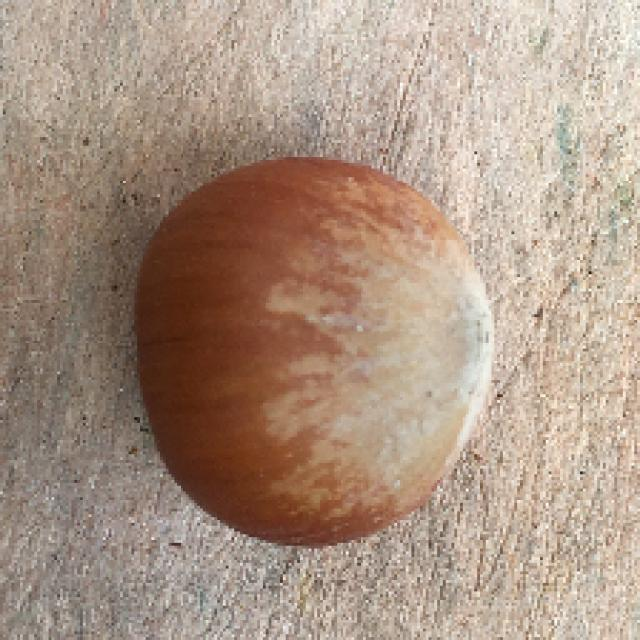QualityHazelnut: (129, 153, 499, 549)
